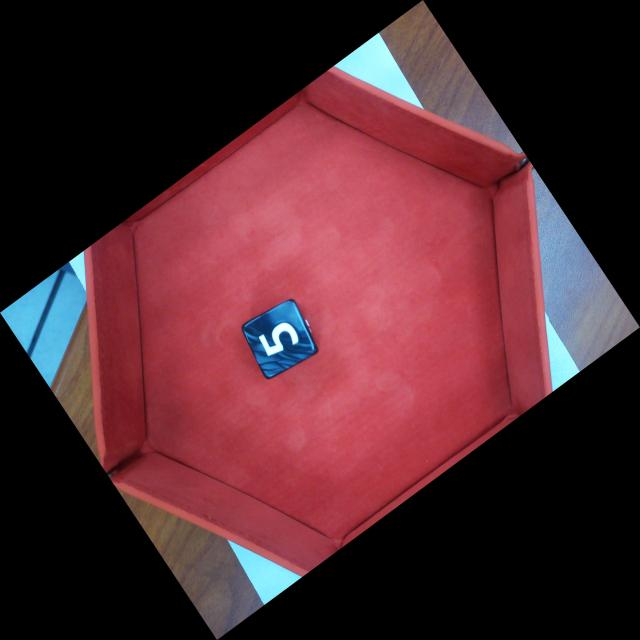dice: (247, 300, 324, 377)
